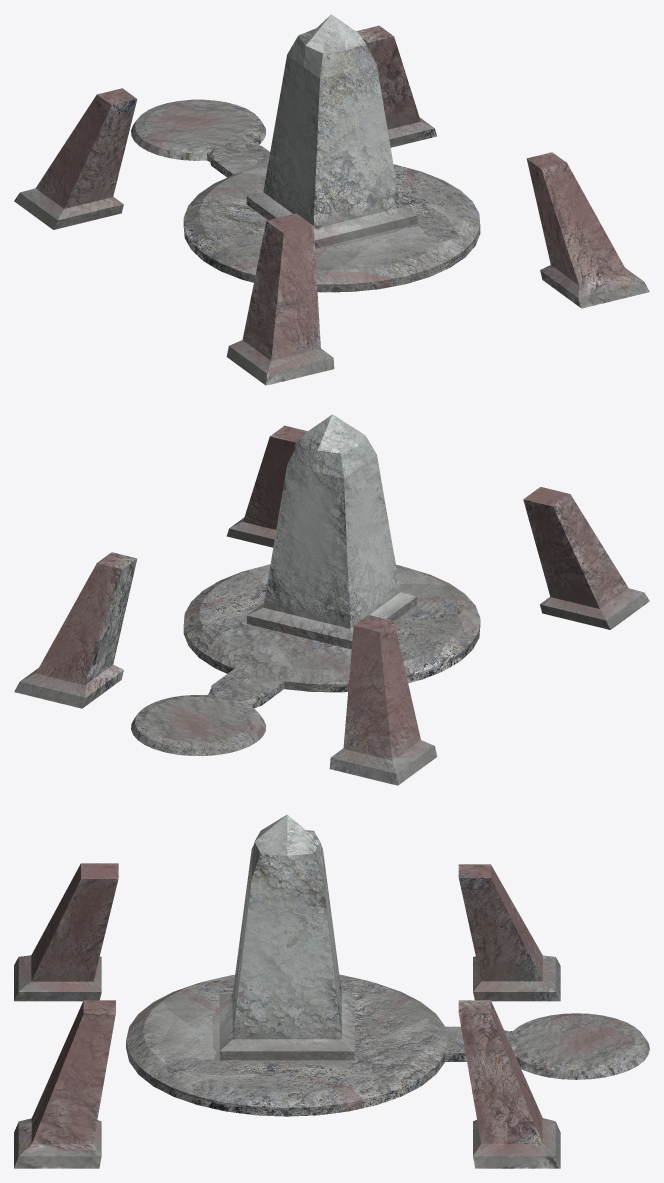
The model's file is stone_altar.fbx.
3 views of the same model, one above another, from view 1: azimuth 30°, elevation 25°; view 2: azimuth 150°, elevation 25°; view 3: azimuth 270°, elevation 25° (orthographic). The views are drawn at different scales.
Parts seen in each view (by area): view 1: Cube; view 2: Cube; view 3: Cube.
Part boxes in pixels (<box>): Cube: <box>14,14,649,385</box>; Cube: <box>14,414,649,785</box>; Cube: <box>14,814,649,1168</box>.
Size of the model in its own units: 14.62 by 19.34 by 8.46.
1 material, 1 textured.
